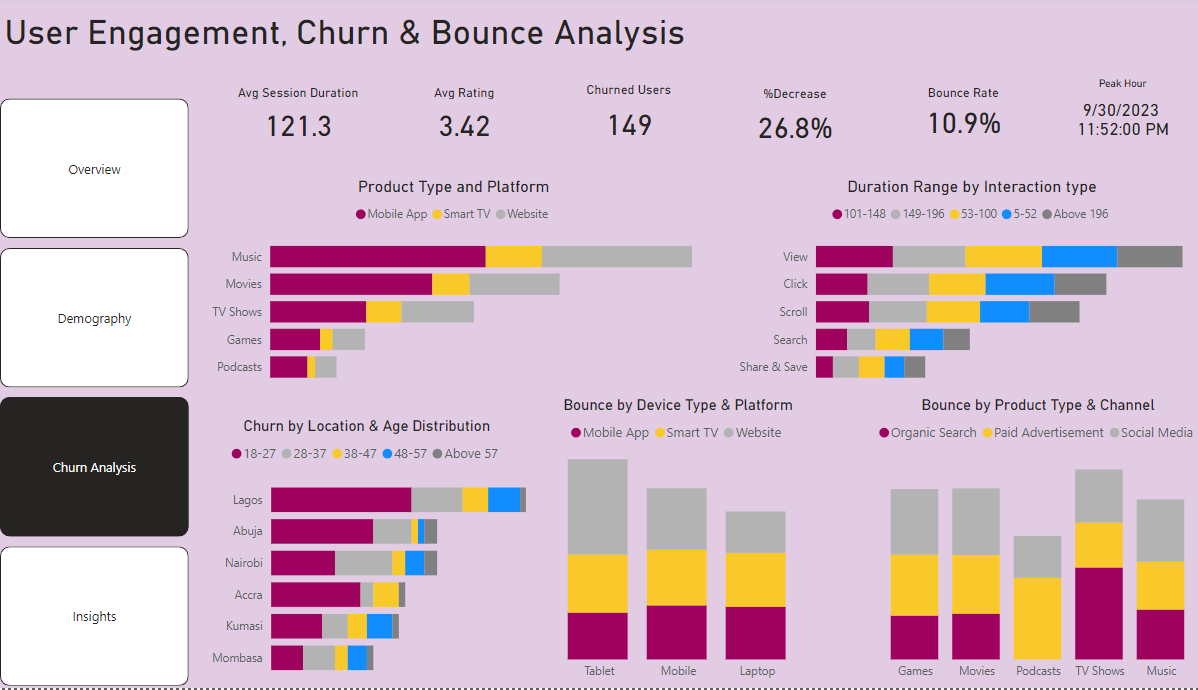

The page's visual inventory and layout, read from the dashboard file:
{"tool":"powerbi","page":{"name":"Churn Analysis","canvas":[1280,720],"ordinal":2},"visuals":[{"type":"card","title":"Avg Session Duration","fields":{"Values":["Measues Table (2).Avg Session Duration"]},"box":[238.6,93.2,142.6,64.4],"z":0},{"type":"card","title":"Avg Rating","fields":{"Values":["Measues Table (2).Avg Rating"]},"box":[412.7,93.2,138.5,64.4],"z":1000},{"type":"card","title":"Churned Users","fields":{"Values":["Measues Table (2).Churned Users"]},"box":[586.8,90.5,131.6,69.9],"z":2000},{"type":"card","title":"Bounce Rate","fields":{"Values":["Measues Table (2).Bounce Rate"]},"box":[935.1,93.2,131.6,59],"z":3000},{"type":"textbox","title":"User Engagement, Churn & Bounce Analysis","box":[0,17.1,718.4,46.8],"z":4000},{"type":"card","title":"%Decrease","fields":{"Values":["Measues Table (2).Percentage Decrease"]},"box":[756.8,94.6,137.1,65.8],"z":5000},{"type":"card","title":"Peak Hour","fields":{"Values":["Measues Table (2).PeakHour"]},"box":[1103.7,85,126.1,75.4],"z":6000},{"type":"barChart","title":" Product Type and Platform","fields":{"Y":["Measues Table (2).Total sessions"],"Category":["session_data 2.Product Type"],"Series":["session_data 2.Platform"]},"box":[210.4,188.6,522.1,226],"z":7000},{"type":"barChart","title":"Duration Range by Interaction type","fields":{"Y":["Measues Table (2).Total sessions"],"Series":["session_data 2.Duration Range"],"Category":["session_data 2.Interaction Type"]},"box":[757.4,188.6,504.9,226],"z":8000},{"type":"barChart","title":"Churn by Location & Age Distribution","fields":{"Y":["Measues Table (2).Churned Users"],"Series":["user_profile_data 2.Age Distribution"],"Category":["user_profile_data 2.Location"]},"box":[210.4,437.9,341.3,282.1],"z":9000},{"type":"columnChart","title":"Bounce by Device Type & Platform","fields":{"Category":["session_data 2.DeviceType"],"Series":["session_data 2.Platform"],"Y":["Measues Table (2).Bounce Rate"]},"box":[551.7,416.1,305.5,303.9],"z":10000},{"type":"columnChart","title":"Bounce by Product Type & Channel","fields":{"Category":["session_data 2.Product Type"],"Y":["Measues Table (2).Bounce Rate"],"Series":["session_data 2.Channel"]},"box":[894.5,416.1,367.8,303.9],"z":11000},{"type":"pageNavigator","box":[0,107.5,196.4,612.5],"z":12000}]}

Visuals, with their boxes in screenshot pixels (x1, y1, x2, y2), scaled from the page's 1280x720 canvas onto the 1198x690 screenshot:
"Avg Session Duration" card: pyautogui.locateOnScreen(223, 89, 357, 151)
"Avg Rating" card: pyautogui.locateOnScreen(386, 89, 516, 151)
"Churned Users" card: pyautogui.locateOnScreen(549, 87, 672, 154)
"Bounce Rate" card: pyautogui.locateOnScreen(875, 89, 998, 146)
"User Engagement, Churn & Bounce Analysis" textbox: pyautogui.locateOnScreen(0, 16, 672, 61)
"%Decrease" card: pyautogui.locateOnScreen(708, 91, 837, 154)
"Peak Hour" card: pyautogui.locateOnScreen(1033, 81, 1151, 154)
" Product Type and Platform" barChart: pyautogui.locateOnScreen(197, 181, 686, 397)
"Duration Range by Interaction type" barChart: pyautogui.locateOnScreen(709, 181, 1181, 397)
"Churn by Location & Age Distribution" barChart: pyautogui.locateOnScreen(197, 420, 516, 689)
"Bounce by Device Type & Platform" columnChart: pyautogui.locateOnScreen(516, 399, 802, 689)
"Bounce by Product Type & Channel" columnChart: pyautogui.locateOnScreen(837, 399, 1181, 689)
pageNavigator: pyautogui.locateOnScreen(0, 103, 184, 689)
